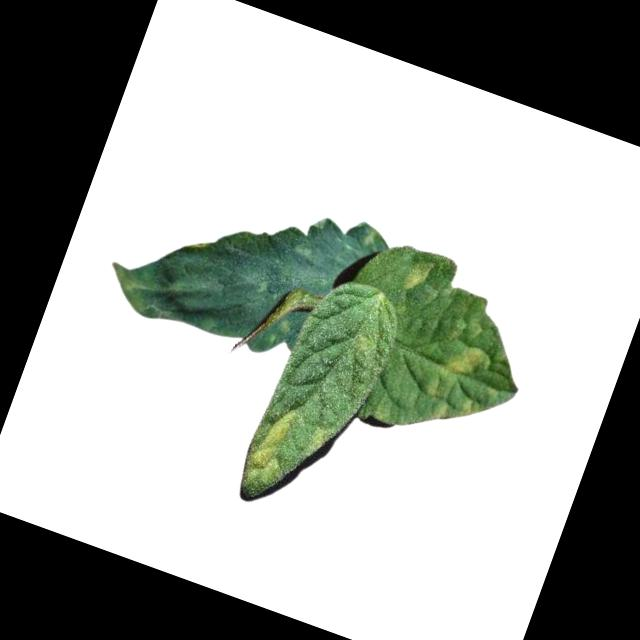Leaf_Mold: (96, 147, 390, 383), (239, 398, 308, 492), (440, 338, 488, 382), (394, 251, 433, 296)
